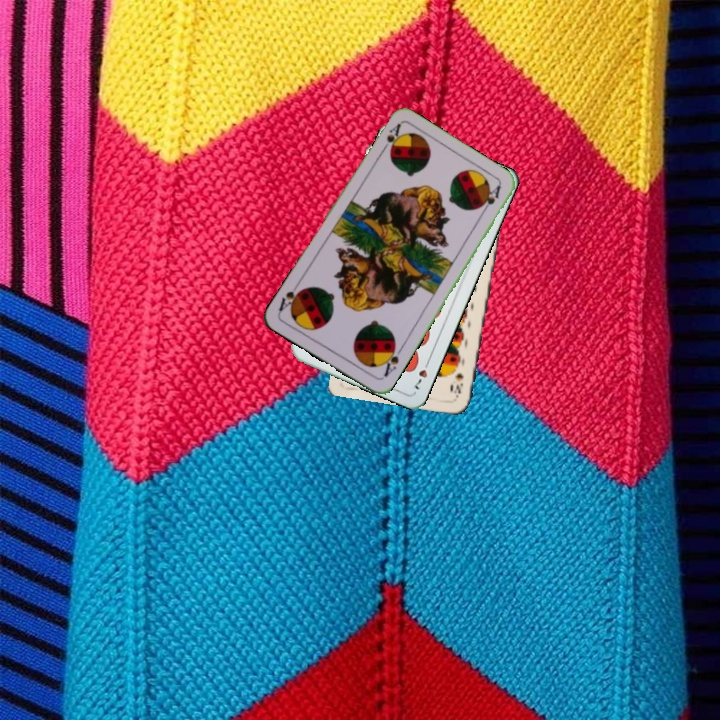H7: (410, 355, 433, 392)
S10: (451, 369, 466, 400)
SA: (378, 340, 405, 379), (376, 119, 404, 156)
